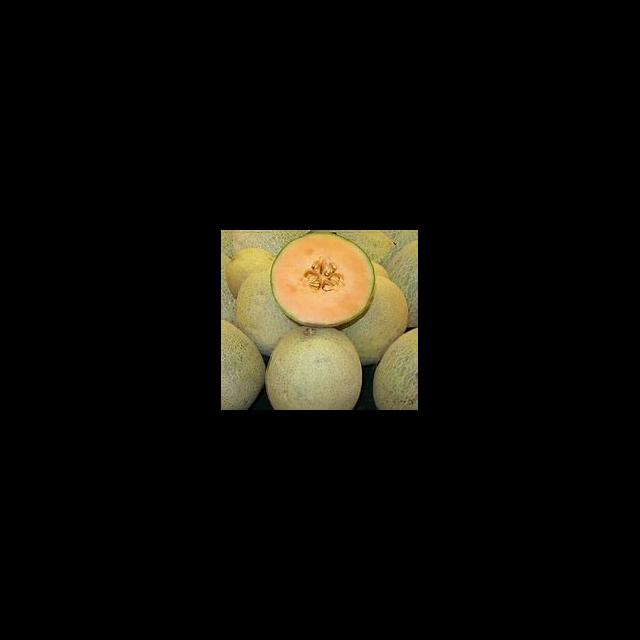Hami Melon: (273, 234, 375, 329)
